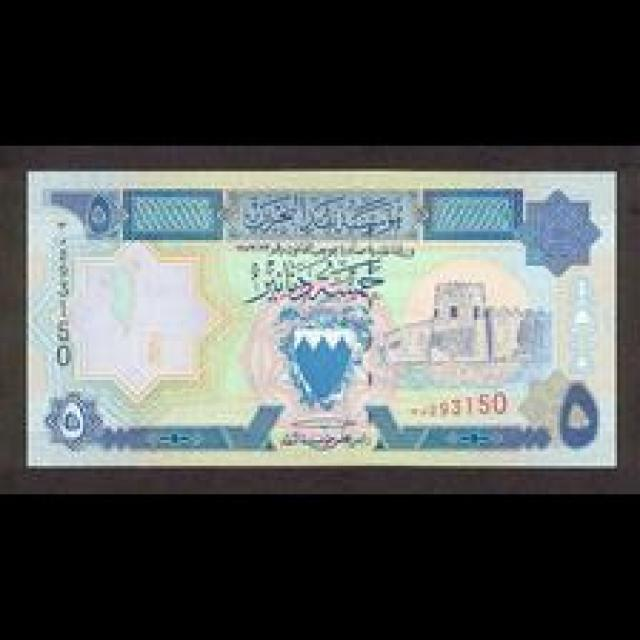banknote: (23, 171, 617, 464)
